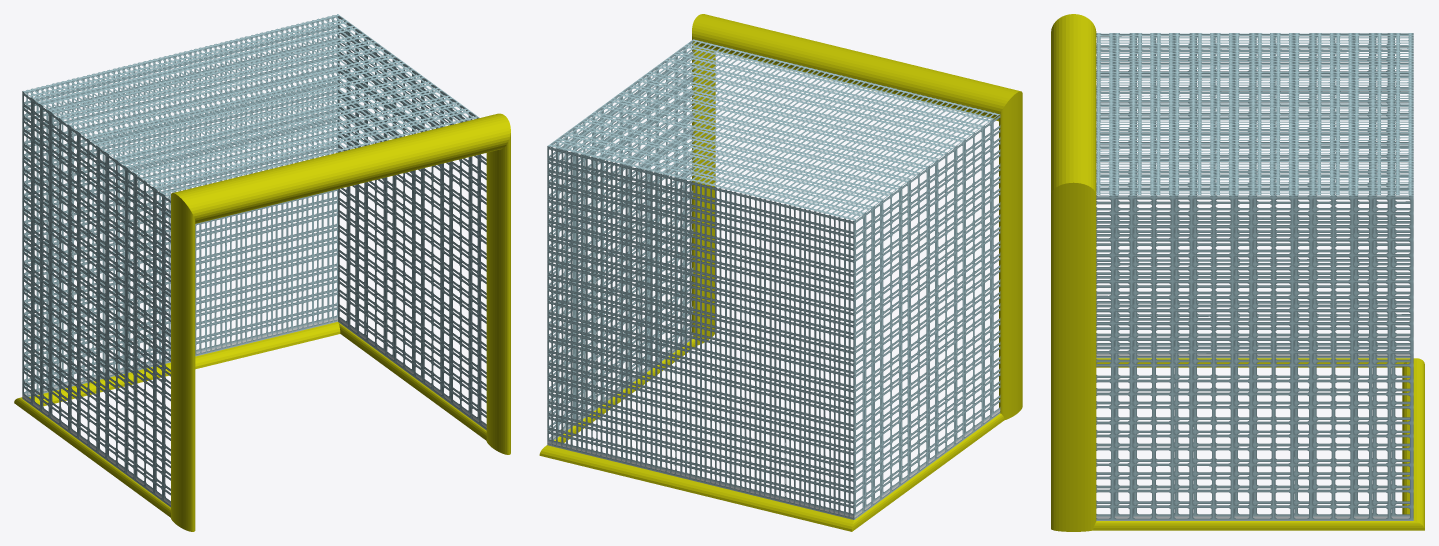
File: leftsoccergoal.obj
The picture shows the model from 3 angles, left to right: view 1: azimuth 30°, elevation 25°; view 2: azimuth 150°, elevation 25°; view 3: azimuth 270°, elevation 25°; orthographic projection. The views are drawn at different scales.
Visible parts, largest first — view 1: NetOuter_NetOuterCube, NetInner_NetInnerCube, Goalsposts_GoalpostTube, Groundring_GroundringTube; view 2: NetOuter_NetOuterCube, NetInner_NetInnerCube, Goalsposts_GoalpostTube, Groundring_GroundringTube; view 3: NetOuter_NetOuterCube, NetInner_NetInnerCube, Goalsposts_GoalpostTube, Groundring_GroundringTube.
Boxes of the visible parts, <box> form: NetOuter_NetOuterCube: <box>22,15,486,507</box>; NetInner_NetInnerCube: <box>22,14,486,505</box>; Goalsposts_GoalpostTube: <box>171,113,510,531</box>; Groundring_GroundringTube: <box>14,322,486,517</box>; NetOuter_NetOuterCube: <box>547,39,1000,519</box>; NetInner_NetInnerCube: <box>547,40,1000,518</box>; Goalsposts_GoalpostTube: <box>692,14,1022,420</box>; Groundring_GroundringTube: <box>539,339,1004,531</box>; NetOuter_NetOuterCube: <box>1096,33,1413,520</box>; NetInner_NetInnerCube: <box>1096,33,1413,518</box>; Goalsposts_GoalpostTube: <box>1051,14,1096,531</box>; Groundring_GroundringTube: <box>1093,358,1424,530</box>.
Size of the model in its own units: 1.04 by 1 by 0.9706.
